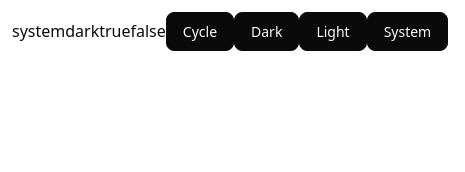
Test case: ThemeProvider › setMode › should set mode to light
The width and height of the screenshot is (465, 172).
Click the button with test id "set-light".
click(333, 32)  # box [299, 12, 367, 51]
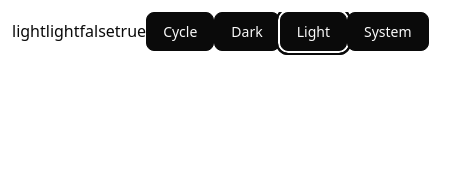
Check: the text with test id "mode" reads "light", box [12, 20, 46, 42]
Check: the text with test id "resolved" reads "light", box [46, 20, 80, 42]
